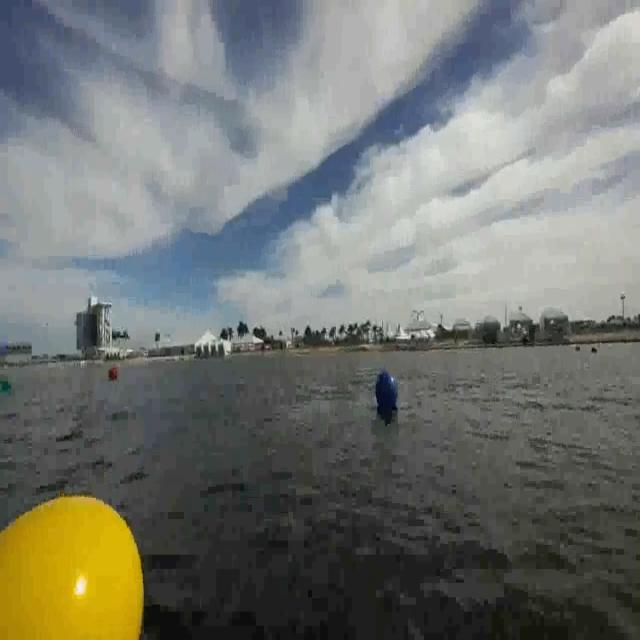blue-buoy: (376, 370, 398, 409)
green-buoy: (0, 370, 14, 397)
red-column-buoy: (109, 365, 118, 380)
yellow-buoy: (0, 485, 154, 640)
